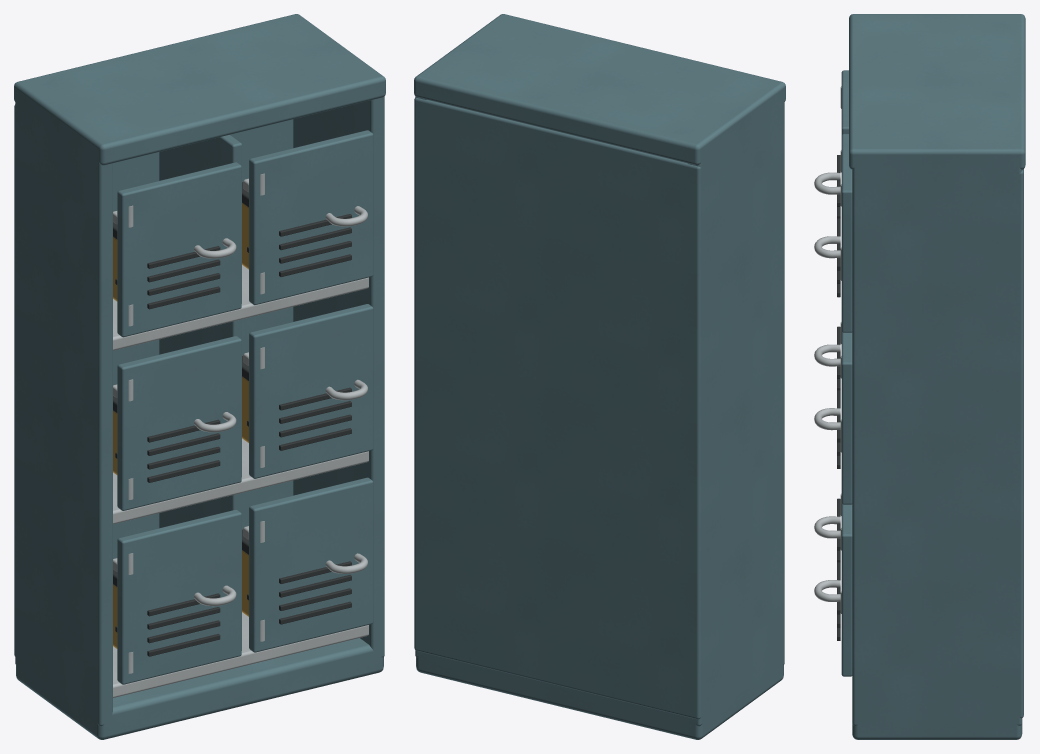
File: gorgehold-survivor-gallery-and-operations-recovered-ce-a32b9000__32856.glb
3 views of the same model, side by side, from view 1: azimuth 30°, elevation 25°; view 2: azimuth 150°, elevation 25°; view 3: azimuth 270°, elevation 25° (orthographic).
Parts seen in each view (by area): view 1: recovered-cell-isolation-locker; view 2: recovered-cell-isolation-locker; view 3: recovered-cell-isolation-locker.
Boxes of the visible parts, left/top/right/bottom form: recovered-cell-isolation-locker: left=14, top=14, right=385, bottom=739; recovered-cell-isolation-locker: left=414, top=14, right=785, bottom=739; recovered-cell-isolation-locker: left=814, top=14, right=1025, bottom=739.
Size of the model in its own units: 1 by 2 by 0.6454.
4 materials, 2 textured.
